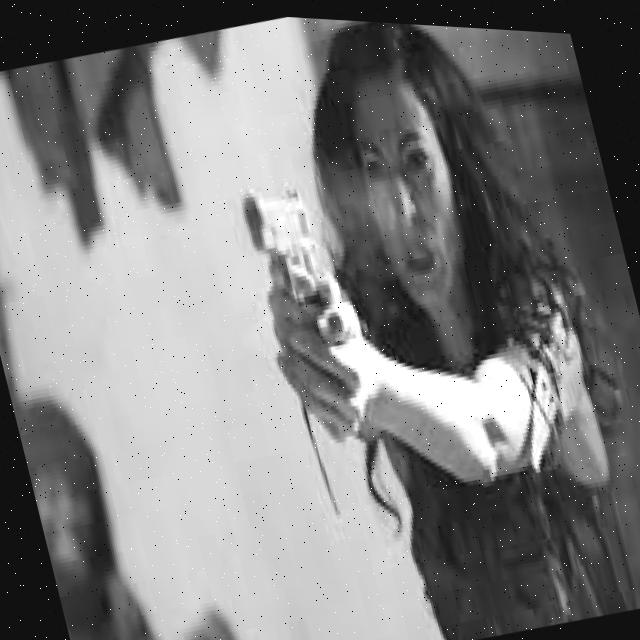pistol: (236, 174, 332, 311)
